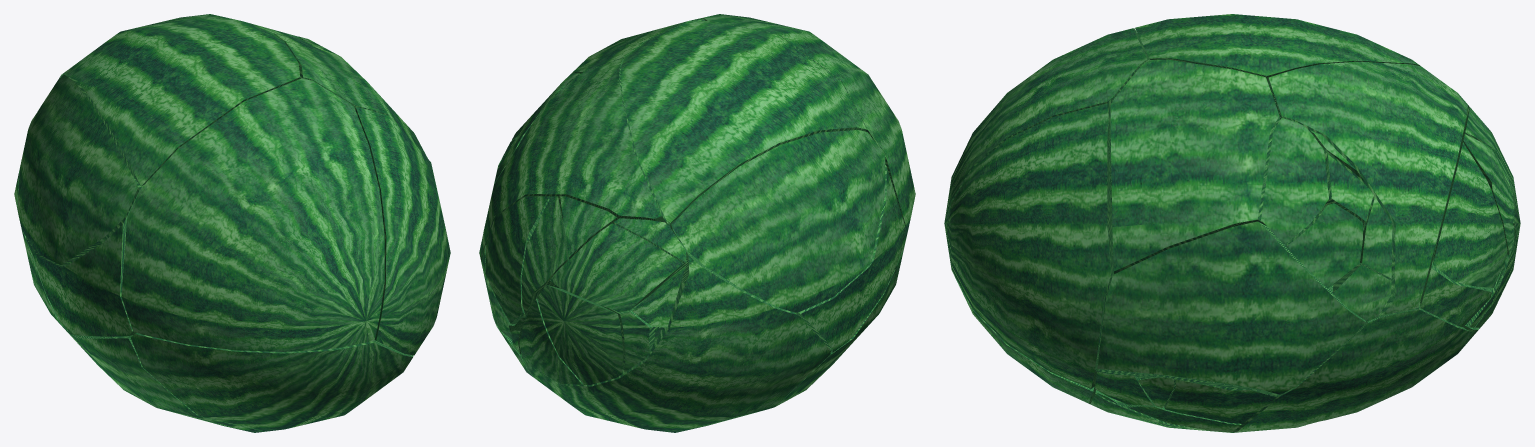
Rendered from fractured_watermelon.fbx.
3 renders of one model, left to right at view 1: azimuth 30°, elevation 25°; view 2: azimuth 150°, elevation 25°; view 3: azimuth 270°, elevation 25°, orthographic. The views are drawn at different scales.
Visible parts, largest first — view 1: Watermelon_cell.011, Watermelon_cell.017, Watermelon_cell.013, Watermelon_cell.012, Watermelon_cell.005, Watermelon_cell.015, Watermelon_cell.003, Watermelon_cell.018, Watermelon_cell, Watermelon_cell.009; view 2: Watermelon_cell.017, Watermelon_cell.012, Watermelon_cell, Watermelon_cell.009, Watermelon_cell.008_cell.003, Watermelon_cell.011, Watermelon_cell.008_cell.001, Watermelon_cell.015, Watermelon_cell.007_cell.005, Watermelon_cell.007_cell.006, Watermelon_cell.008_cell.004, Watermelon_cell.007_cell (+7 smaller); view 3: Watermelon_cell.005, Watermelon_cell.002, Watermelon_cell.018, Watermelon_cell.009, Watermelon_cell.014, Watermelon_cell.017, Watermelon_cell.011, Watermelon_cell.007_cell.005, Watermelon_cell.010_cell.001, Watermelon_cell.010_cell.002, Watermelon_cell.004_cell.007, Watermelon_cell.007_cell.007 (+11 smaller).
Part boxes in pixels (x1,y1,x2,y2): Watermelon_cell.011: [121, 78, 384, 351]; Watermelon_cell.017: [60, 18, 300, 186]; Watermelon_cell.013: [131, 333, 413, 431]; Watermelon_cell.012: [17, 75, 137, 264]; Watermelon_cell.005: [355, 107, 450, 355]; Watermelon_cell.015: [26, 175, 143, 336]; Watermelon_cell.003: [71, 334, 265, 432]; Watermelon_cell.018: [275, 34, 427, 158]; Watermelon_cell: [14, 109, 97, 364]; Watermelon_cell.009: [79, 14, 301, 61]; Watermelon_cell.017: [620, 21, 866, 224]; Watermelon_cell.012: [671, 130, 885, 312]; Watermelon_cell: [521, 242, 830, 432]; Watermelon_cell.009: [479, 58, 670, 268]; Watermelon_cell.008_cell.003: [550, 223, 683, 312]; Watermelon_cell.011: [702, 14, 915, 255]; Watermelon_cell.008_cell.001: [537, 284, 622, 384]; Watermelon_cell.015: [670, 165, 905, 352]; Watermelon_cell.007_cell.005: [485, 196, 563, 323]; Watermelon_cell.007_cell.006: [521, 196, 569, 314]; Watermelon_cell.008_cell.004: [519, 298, 582, 384]; Watermelon_cell.007_cell: [560, 196, 616, 259]; Watermelon_cell.005: [947, 103, 1113, 388]; Watermelon_cell.002: [1097, 221, 1365, 395]; Watermelon_cell.018: [1110, 59, 1280, 274]; Watermelon_cell.009: [1268, 61, 1467, 315]; Watermelon_cell.014: [1233, 303, 1470, 432]; Watermelon_cell.017: [1135, 14, 1420, 82]; Watermelon_cell.011: [944, 28, 1149, 247]; Watermelon_cell.007_cell.005: [1433, 142, 1507, 287]; Watermelon_cell.010_cell.001: [1261, 118, 1328, 244]; Watermelon_cell.010_cell.002: [1285, 203, 1362, 288]; Watermelon_cell.004_cell.007: [1164, 379, 1276, 423]; Watermelon_cell.007_cell.007: [1420, 235, 1492, 326].
Bounding box in the file's own units: 21.35 × 20.87 × 28.67.
